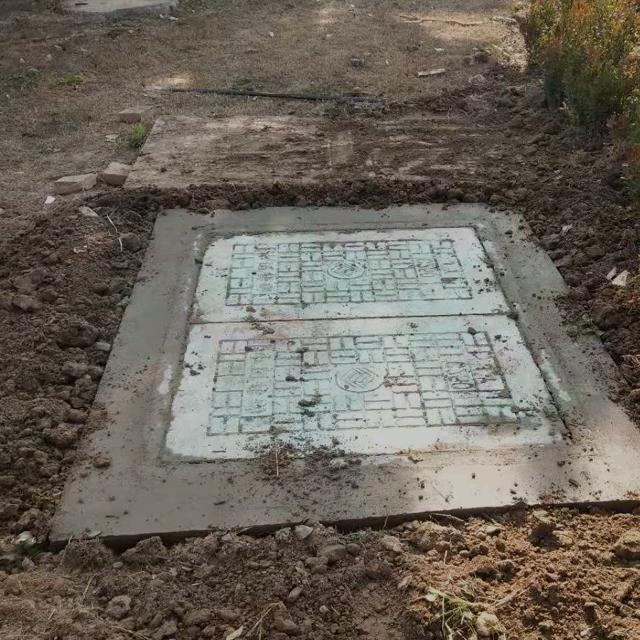good: (60, 185, 640, 504)
